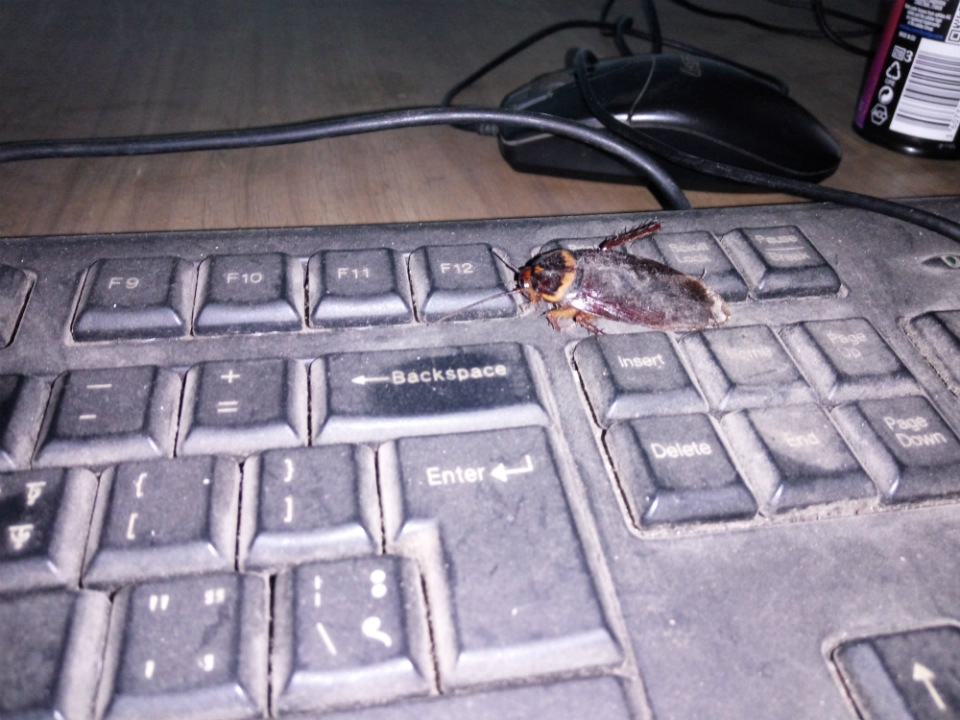cockroach: (416, 209, 740, 377)
